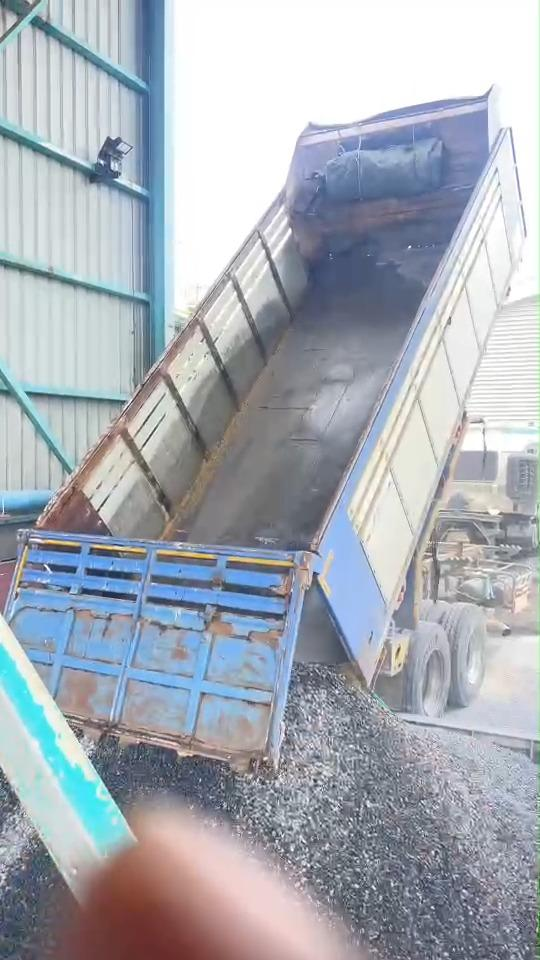gravel: (95, 668, 537, 959), (0, 805, 61, 959), (0, 791, 13, 822)
